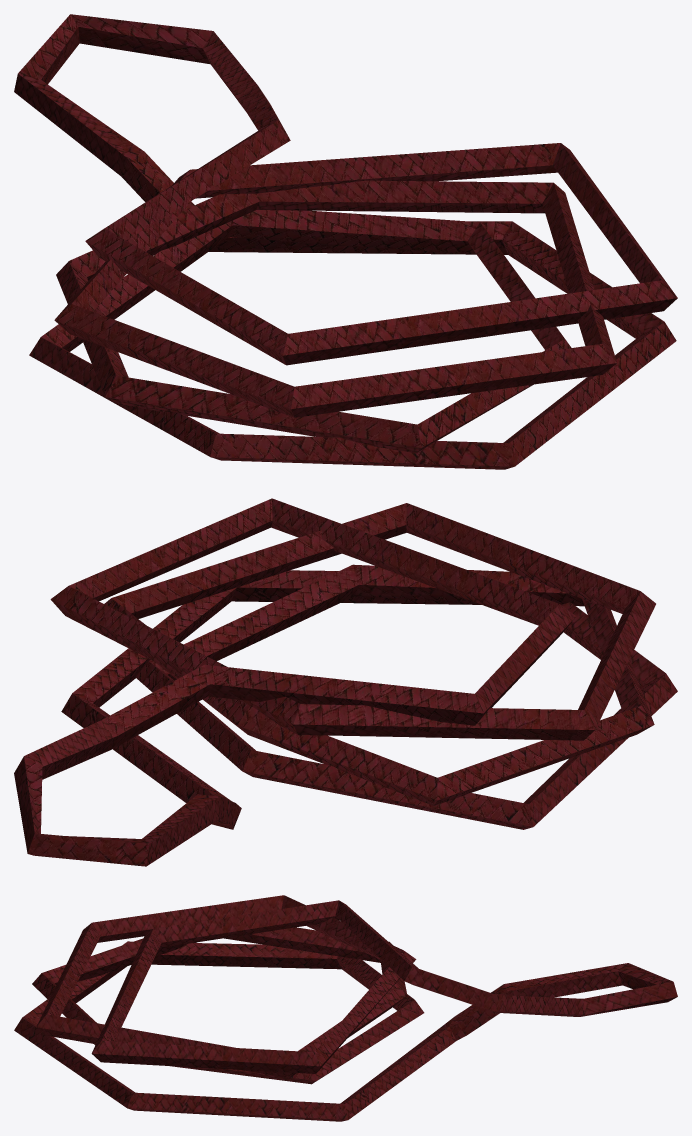
Rendered from TROLLA_CIECIWA.glb.
The picture shows the model from 3 angles, top to bottom: view 1: azimuth 30°, elevation 25°; view 2: azimuth 150°, elevation 25°; view 3: azimuth 270°, elevation 25°; orthographic projection. The views are drawn at different scales.
Visible parts, largest first — view 1: TROLLA_CIECIWA; view 2: TROLLA_CIECIWA; view 3: TROLLA_CIECIWA.
Boxes of the visible parts, x1,y1,x2,y2 form: TROLLA_CIECIWA: (14, 14, 677, 469); TROLLA_CIECIWA: (14, 498, 677, 866); TROLLA_CIECIWA: (14, 895, 677, 1121).
Bounding box in the file's own units: 0.4551 × 0.112 × 0.7025.
1 material, 1 textured.
